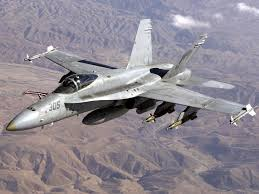fighter: (4, 17, 257, 140)
